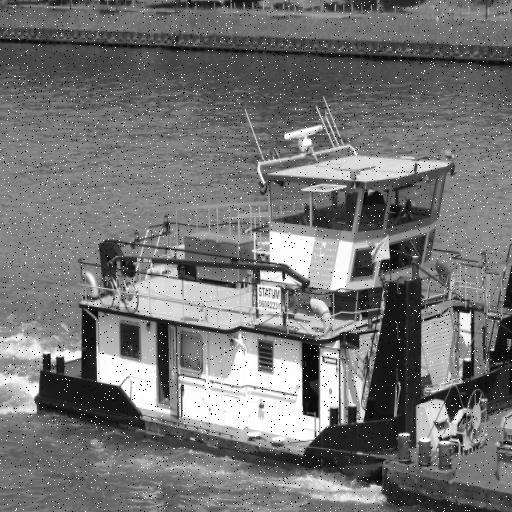tugboat: (30, 122, 512, 497)
